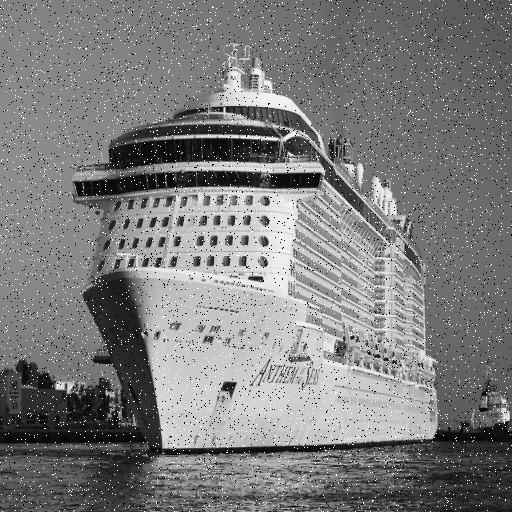cruises: (69, 29, 444, 451)
